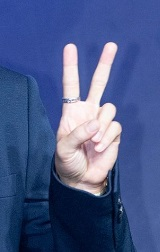peace: (54, 42, 122, 185)
